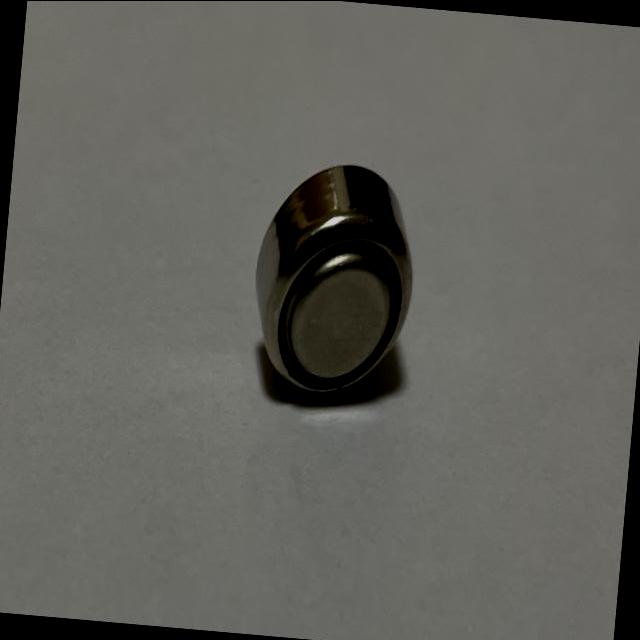COIN: (244, 154, 426, 406)
